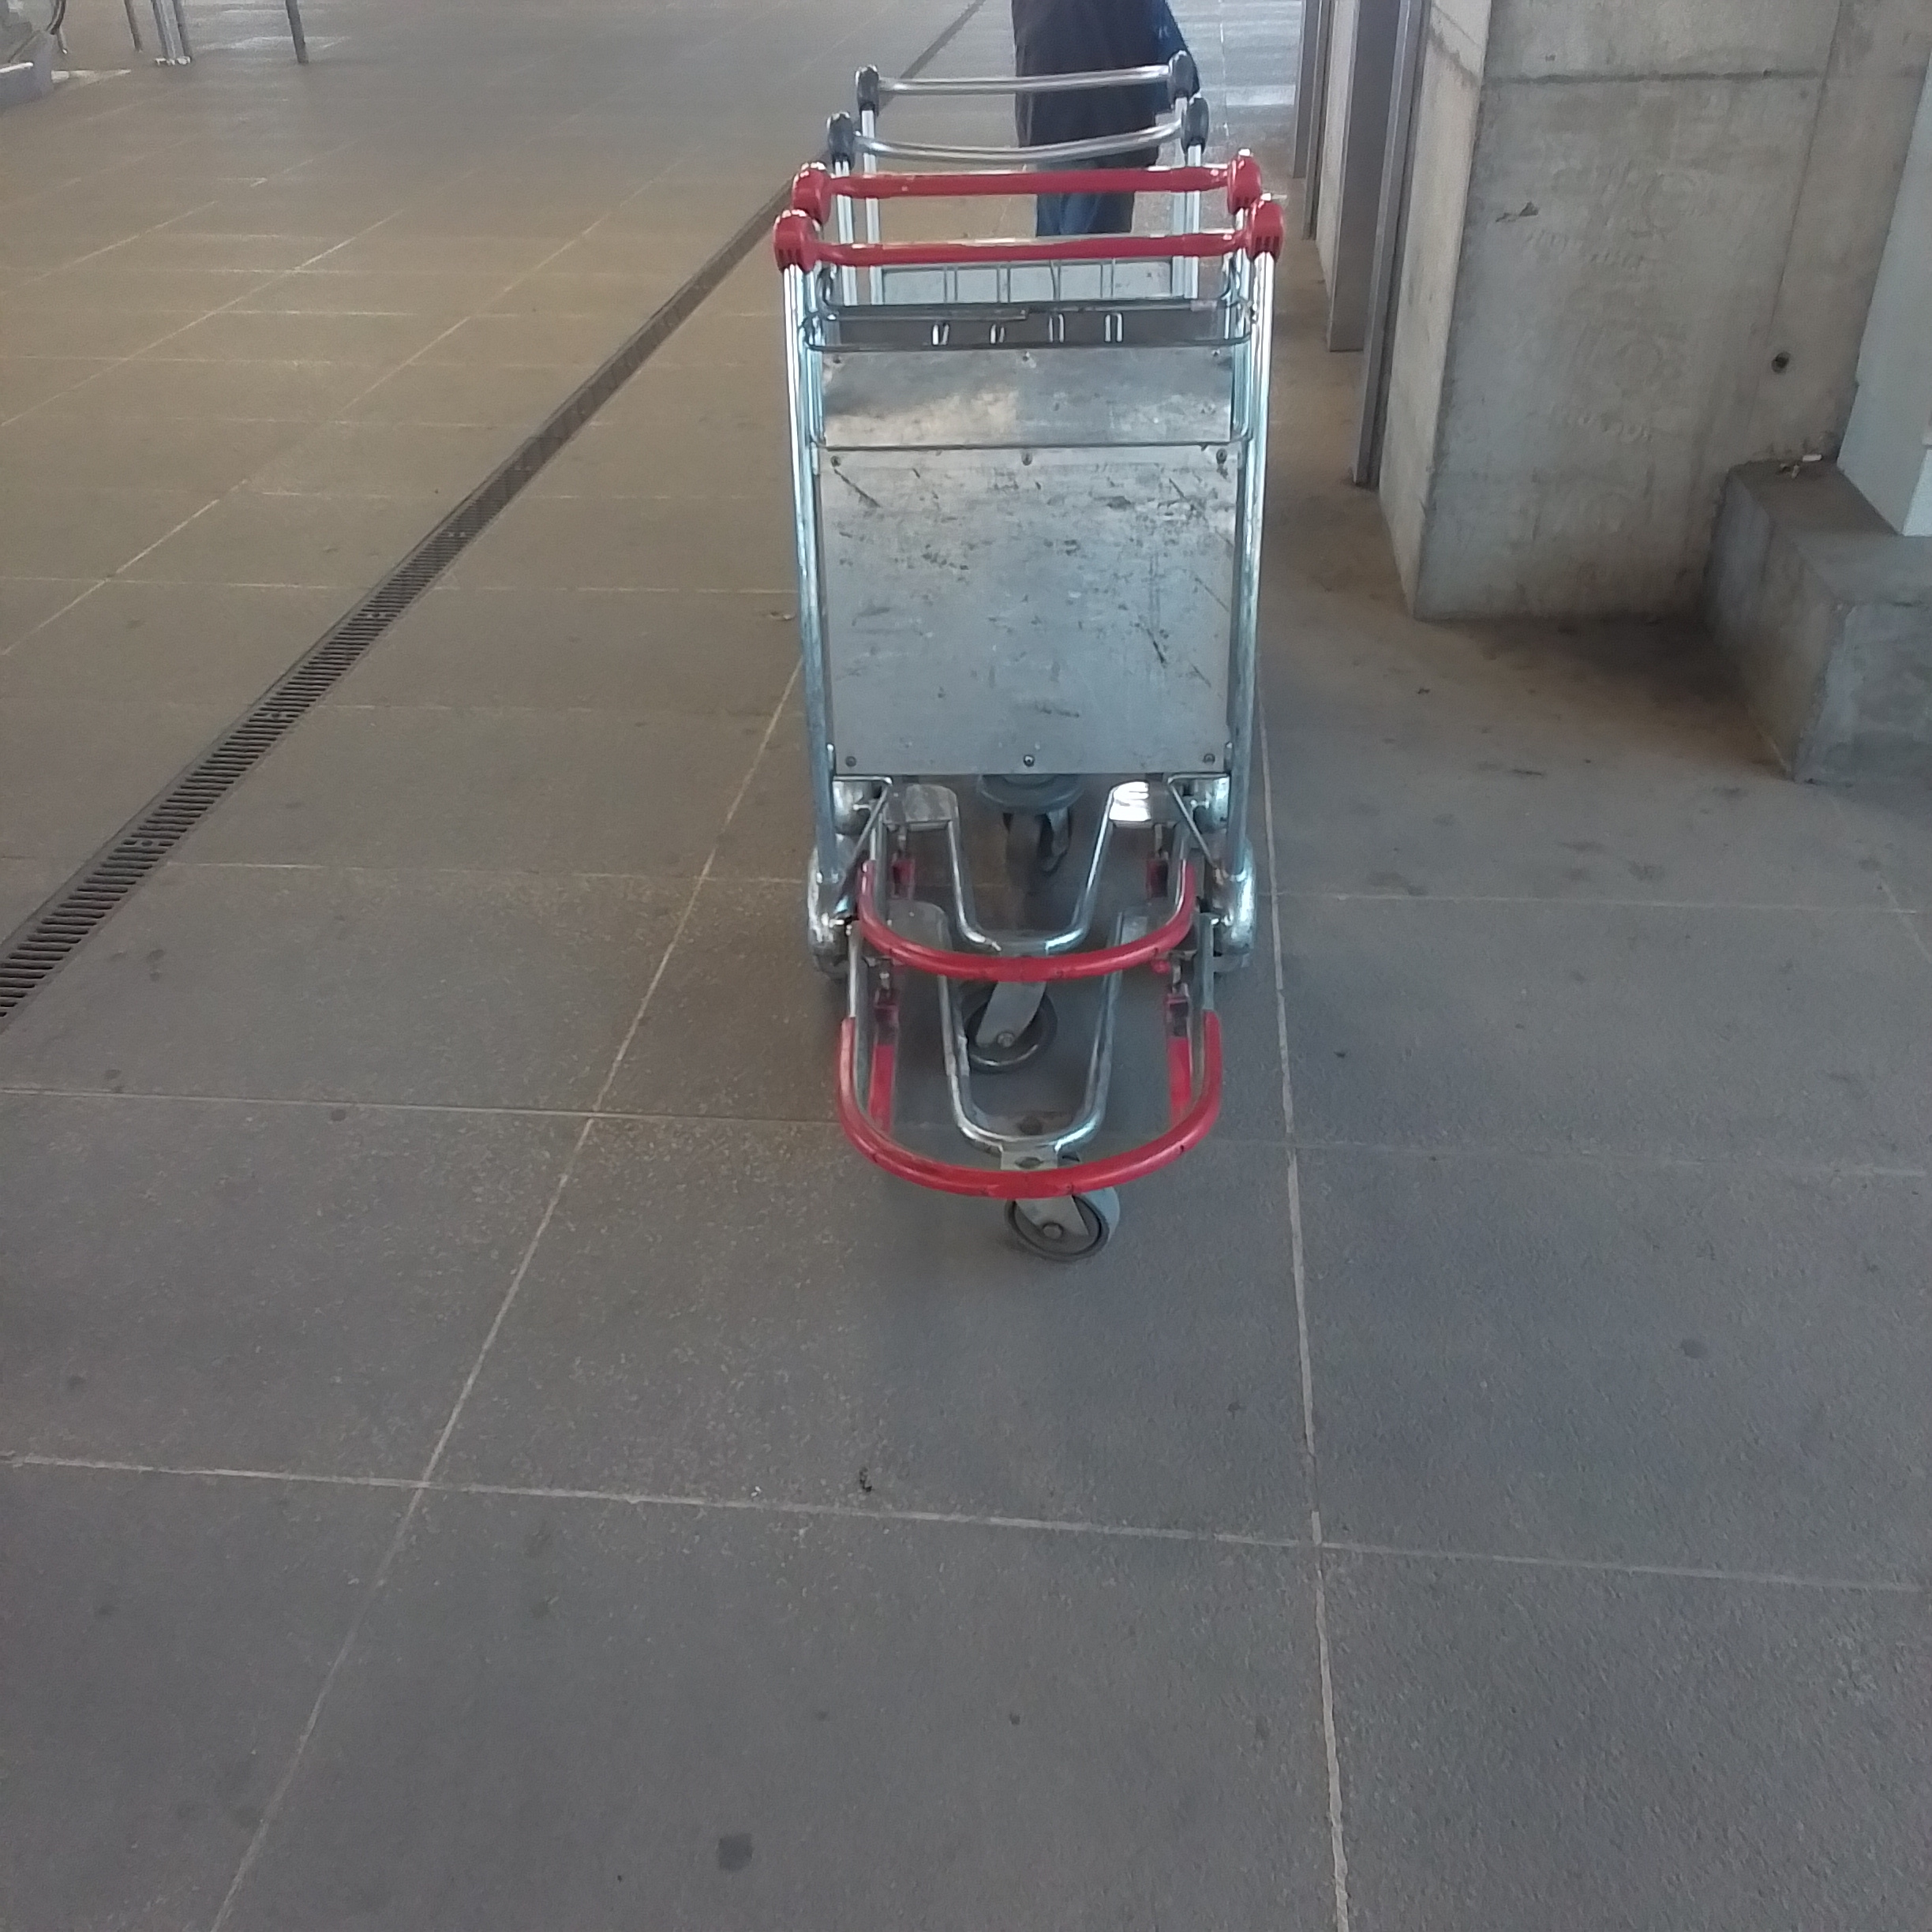airport-trolley: (761, 152, 1315, 1189), (752, 207, 1276, 977)
